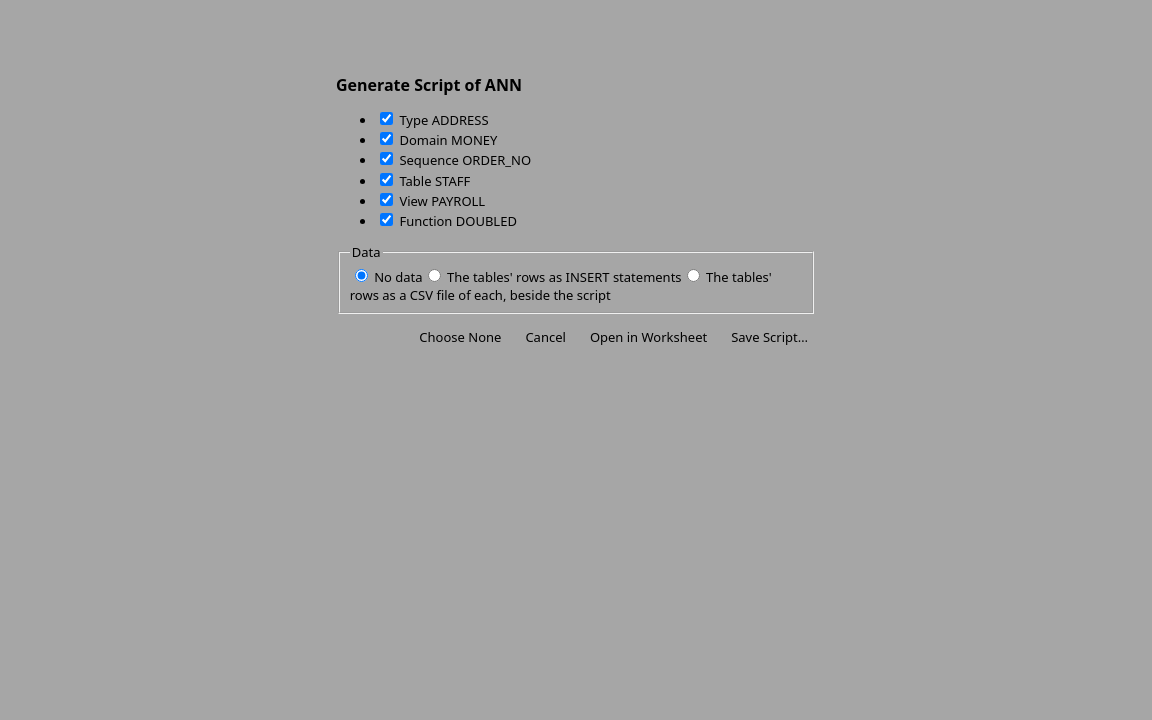
a schema's script generated › says why a definition could not be read [DESIGN] D44
Later steps or results of the test are not shown.
Click the button "Open in Worksheet".
click(649, 337)  # box top-left (582, 326), bottom-right (715, 348)
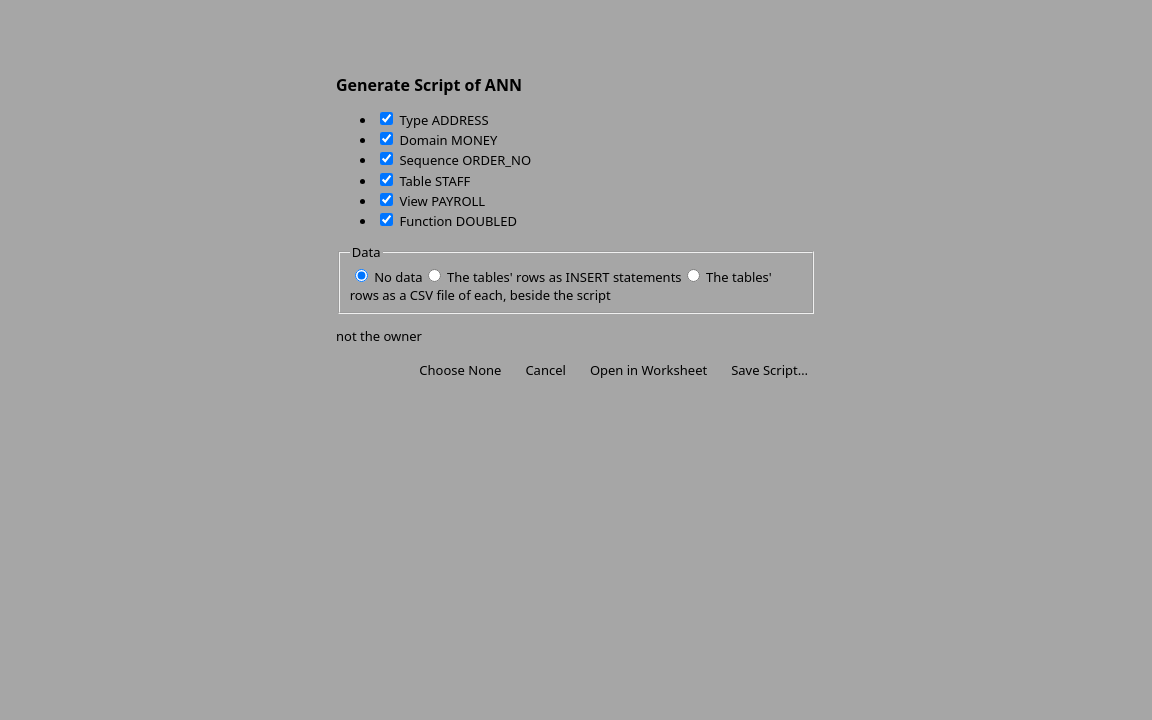
Now the text "not the owner" is shown, box top-left (336, 327), bottom-right (422, 345)
